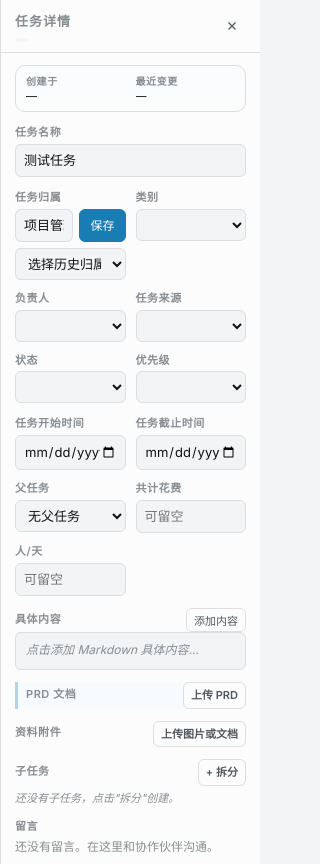
Test: DetailPanel task belonging › uses a visible history selection without relying on datalist
The width and height of the screenshot is (320, 864).
Expected: the field with test id "task-belonging-input" is shown, [15,209,74,242]
Select "客户专项" in the dropdown with test id "task-belonging-history" at [70, 264], box [15,248,126,280]
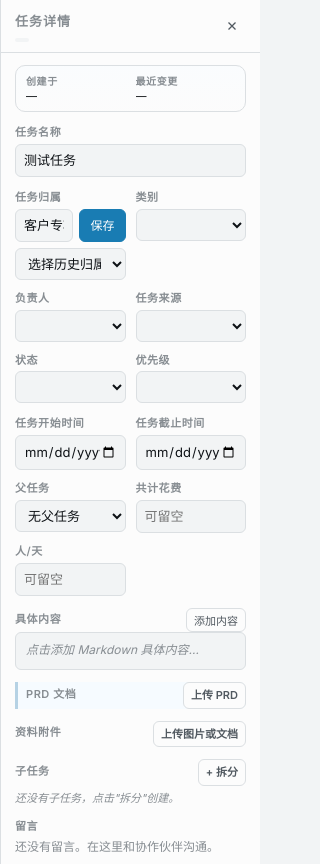
Now the field with test id "task-belonging-input" holds "客户专项", box [15,209,74,242]
